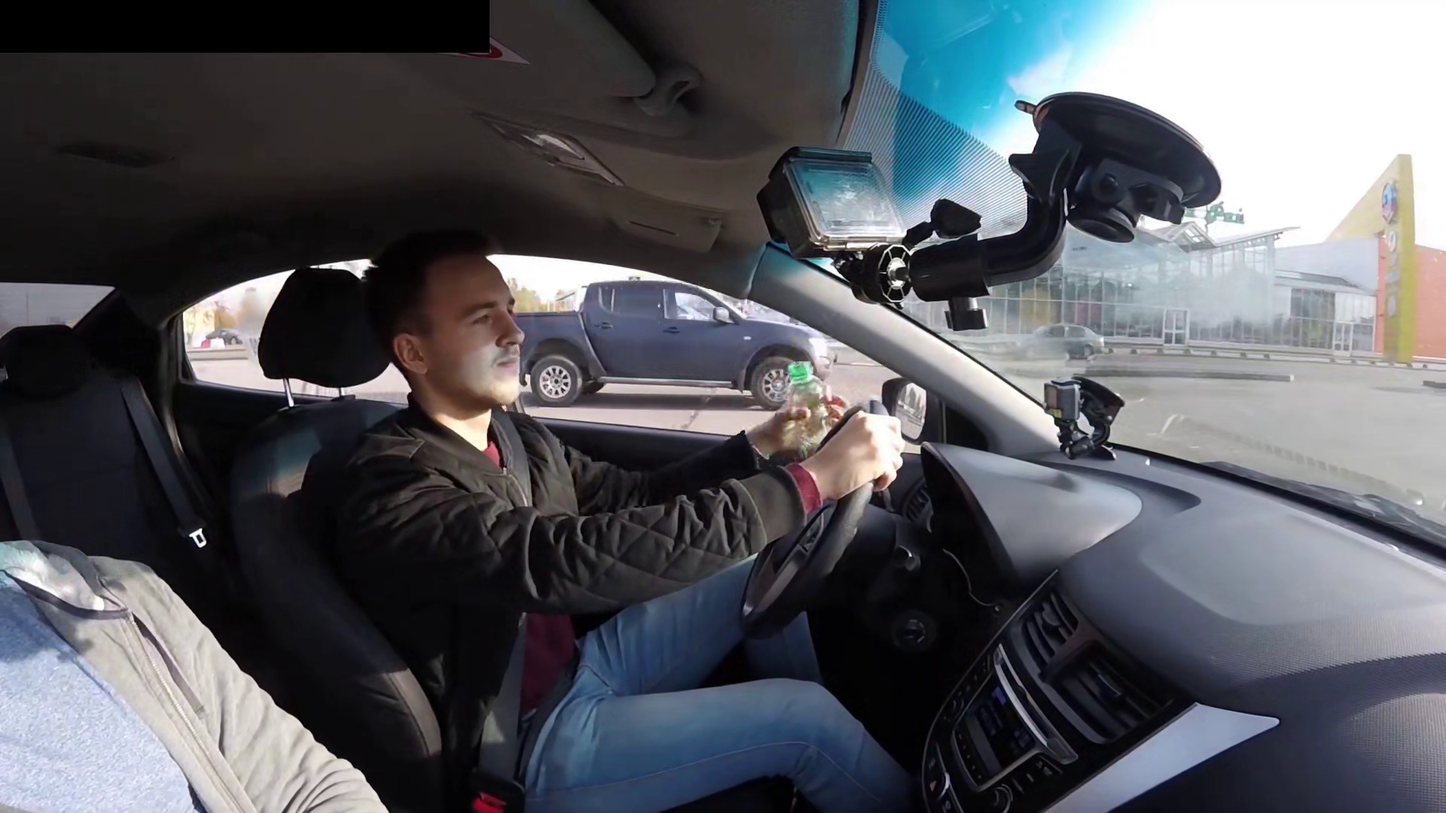car: (0, 185, 978, 780), (1006, 79, 1251, 239)
